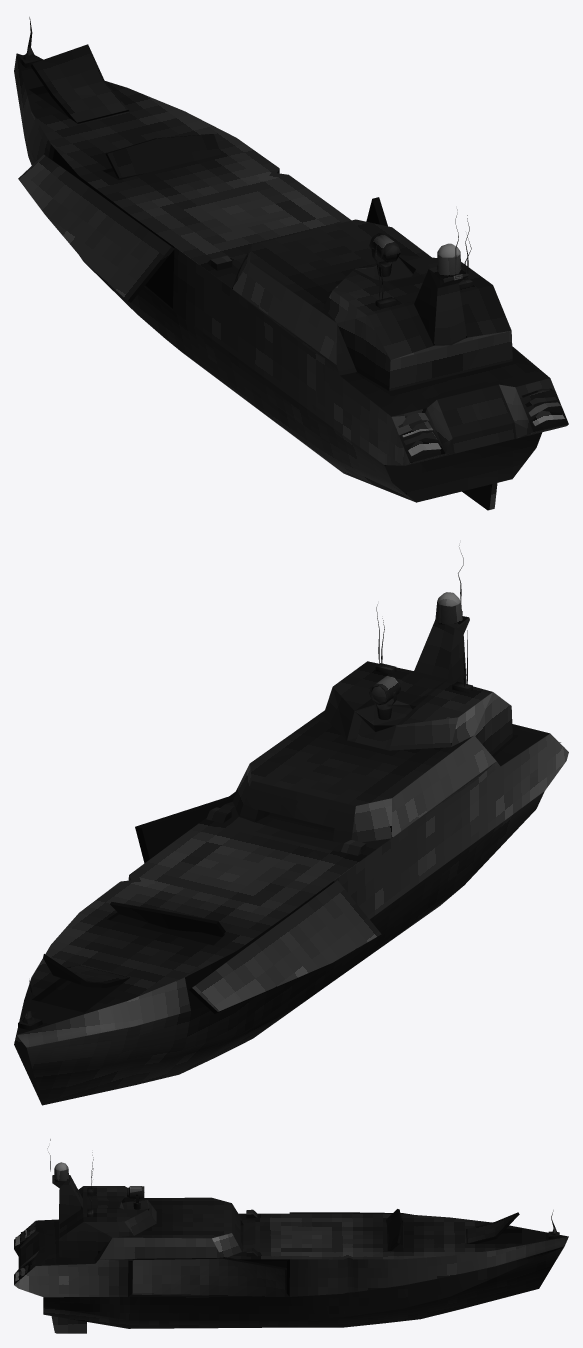
The model's file is small_navy_boat_broken.fbx.
The picture shows the model from 3 angles, top to bottom: view 1: azimuth 30°, elevation 25°; view 2: azimuth 150°, elevation 25°; view 3: azimuth 270°, elevation 25°; orthographic projection. The views are drawn at different scales.
Visible parts, largest first — view 1: small_navy_boat_broken, large_navy_boat_broken02, large_navy_boat_broken06, large_navy_boat_broken04, large_navy_boat_broken01; view 2: small_navy_boat_broken, large_navy_boat_broken02, large_navy_boat_broken06, large_navy_boat_broken04; view 3: small_navy_boat_broken, large_navy_boat_broken03, large_navy_boat_broken06.
Part boxes in pixels (box(x1,y1,x2,y2)): small_navy_boat_broken: box(14, 17, 568, 502); large_navy_boat_broken02: box(18, 155, 174, 302); large_navy_boat_broken06: box(105, 134, 220, 178); large_navy_boat_broken04: box(437, 243, 461, 275); large_navy_boat_broken01: box(369, 233, 400, 262); small_navy_boat_broken: box(14, 545, 568, 1105); large_navy_boat_broken02: box(189, 880, 381, 1013); large_navy_boat_broken06: box(110, 902, 225, 933); large_navy_boat_broken04: box(435, 592, 462, 624); small_navy_boat_broken: box(14, 1139, 568, 1328); large_navy_boat_broken03: box(51, 1316, 86, 1333); large_navy_boat_broken06: box(386, 1209, 402, 1250).
Bounding box in the file's own units: 1355 × 1659 × 4457.
Materials: 1 (1 with a texture image).
